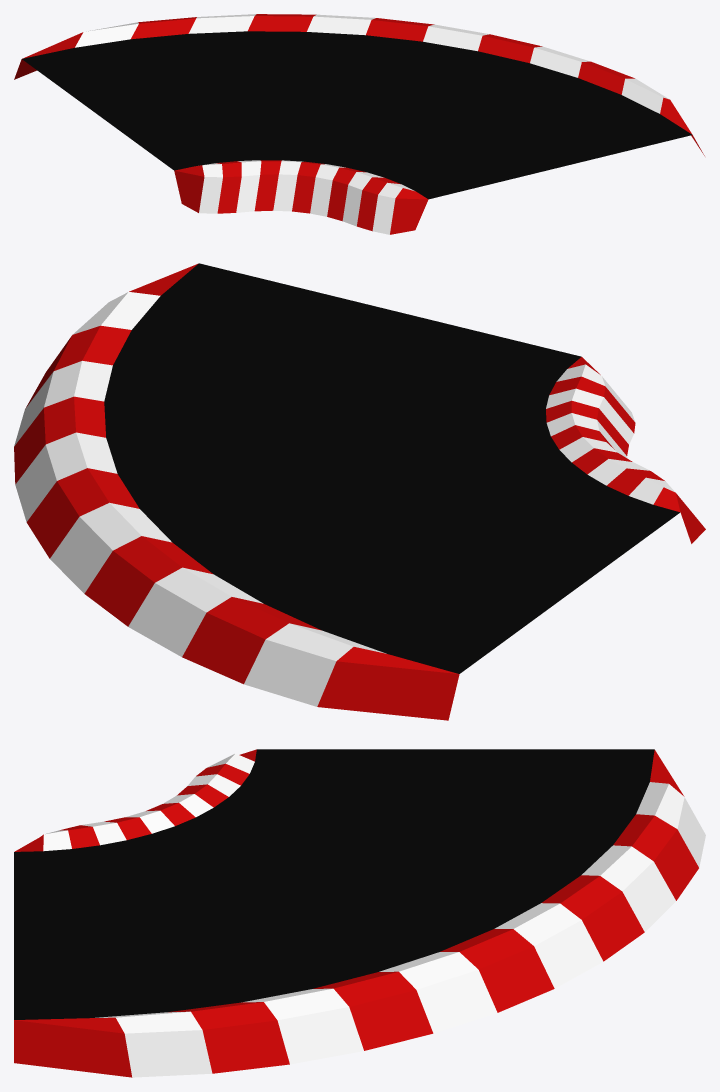
File: demo_cycling_map_turn.fbx
3 views of the same model, one above another, from view 1: azimuth 30°, elevation 25°; view 2: azimuth 150°, elevation 25°; view 3: azimuth 270°, elevation 25° (orthographic). The views are drawn at different scales.
Visible parts, largest first — view 1: turn_segment, turn_segment_left_boundry, turn_segment_right_boundry; view 2: turn_segment, turn_segment_right_boundry, turn_segment_left_boundry; view 3: turn_segment, turn_segment_right_boundry, turn_segment_left_boundry.
Boxes of the visible parts, <box> form: turn_segment: <box>22,31,692,199</box>; turn_segment_left_boundry: <box>174,160,428,234</box>; turn_segment_right_boundry: <box>14,14,704,155</box>; turn_segment: <box>104,263,679,673</box>; turn_segment_right_boundry: <box>14,263,459,720</box>; turn_segment_left_boundry: <box>546,357,705,543</box>; turn_segment: <box>14,749,654,1019</box>; turn_segment_right_boundry: <box>14,750,705,1077</box>; turn_segment_left_boundry: <box>14,749,256,851</box>.
Bounding box in the file's own units: 313 × 22.52 × 313.
